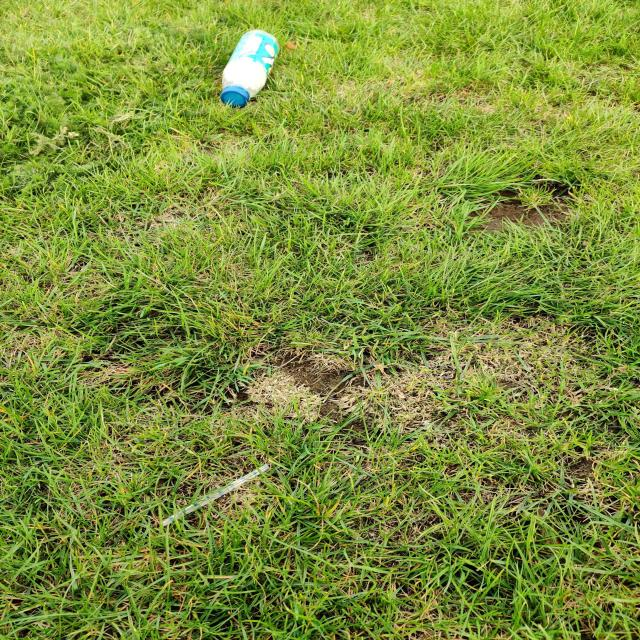litter: (212, 19, 299, 119)
